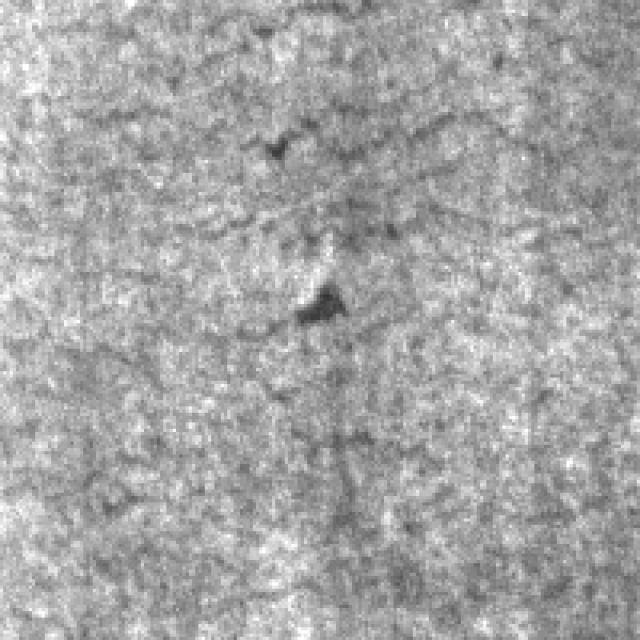crazing: (192, 0, 640, 157), (262, 339, 640, 515)
